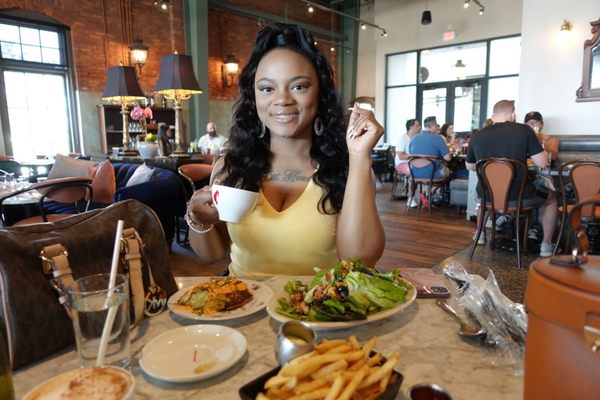pizza: (211, 184, 259, 222)
